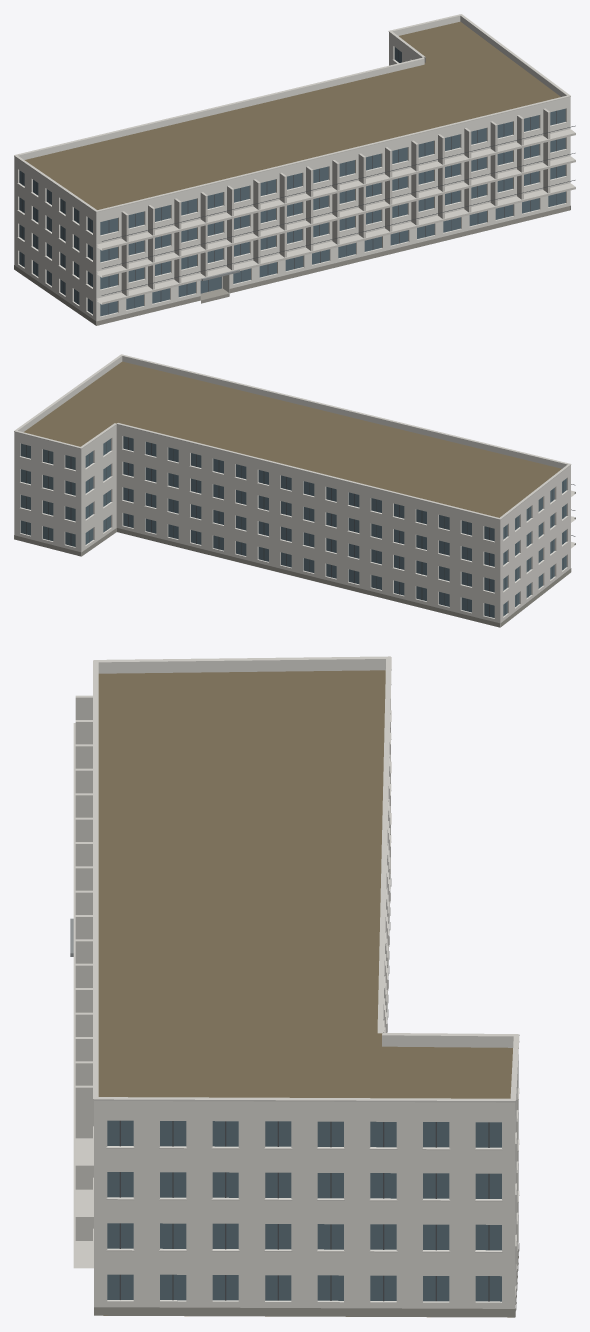
3 views of the same model, one above another, from view 1: azimuth 30°, elevation 25°; view 2: azimuth 150°, elevation 25°; view 3: azimuth 270°, elevation 25° (orthographic). The views are drawn at different scales.
Parts seen in each view (by area): view 1: science__roof, science__wall, science__trim, science__glass, science__parapet, science__frame, science__base; view 2: science__wall, science__roof, science__glass, science__parapet, science__trim, science__base, science__frame; view 3: science__roof, science__wall, science__trim, science__glass, science__parapet, science__base, science__frame.
Part boxes in pixels (x1=…): science__roof: x1=24, y1=21, x2=560, y2=209; science__wall: x1=14, y1=37, x2=570, y2=325; science__trim: x1=14, y1=14, x2=575, y2=304; science__glass: x1=19, y1=47, x2=565, y2=316; science__parapet: x1=14, y1=15, x2=570, y2=217; science__frame: x1=22, y1=50, x2=575, y2=314; science__base: x1=14, y1=205, x2=570, y2=325; science__wall: x1=14, y1=429, x2=570, y2=627; science__roof: x1=24, y1=361, x2=561, y2=517; science__glass: x1=20, y1=436, x2=566, y2=617; science__parapet: x1=14, y1=356, x2=570, y2=524; science__trim: x1=14, y1=354, x2=575, y2=593; science__base: x1=14, y1=528, x2=571, y2=627; science__frame: x1=26, y1=437, x2=575, y2=616; science__roof: x1=98, y1=670, x2=512, y2=1317; science__wall: x1=94, y1=700, x2=518, y2=1310; science__trim: x1=73, y1=656, x2=519, y2=1268; science__glass: x1=107, y1=1120, x2=501, y2=1301; science__parapet: x1=94, y1=659, x2=515, y2=1111; science__base: x1=94, y1=878, x2=519, y2=1317; science__frame: x1=119, y1=1120, x2=489, y2=1301.
Size of the model in its own units: 66.96 by 15.6 by 28.57.
